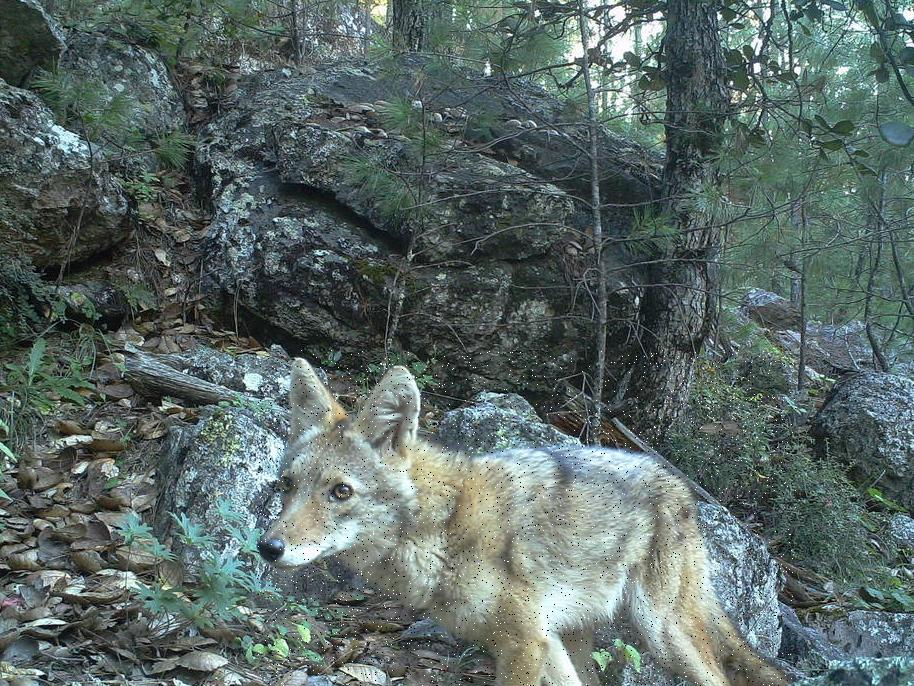Coyote: (257, 350, 796, 686)
